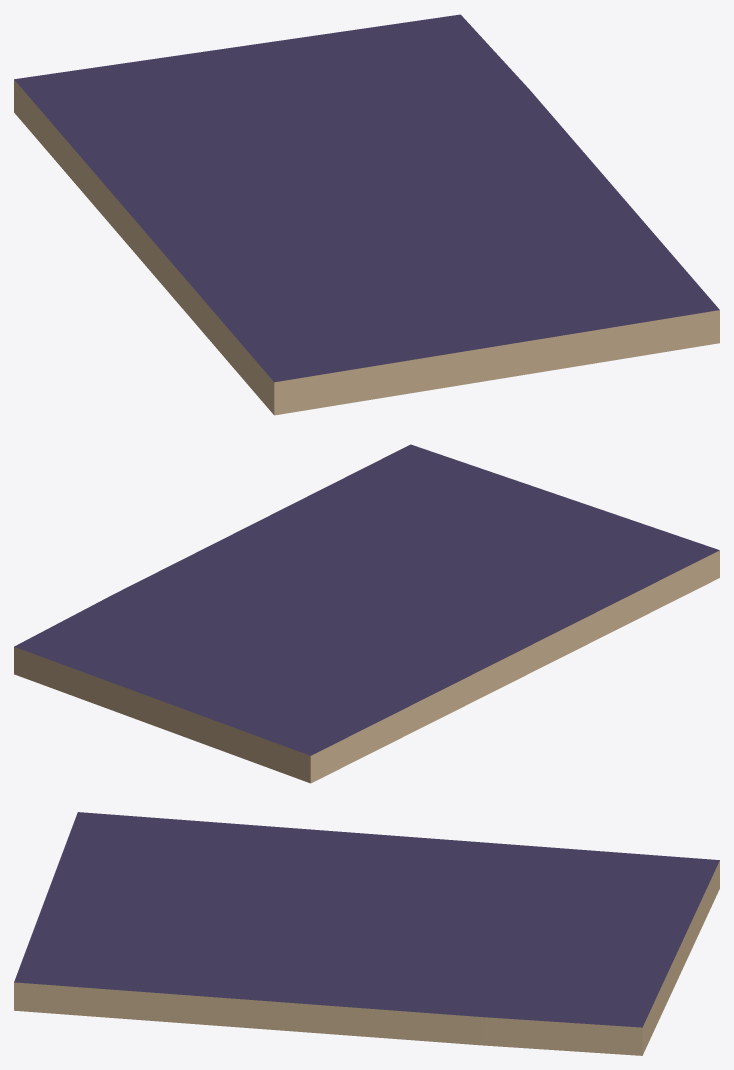
Rendered from b-071-music-building-day.glb.
The picture shows the model from 3 angles, top to bottom: view 1: azimuth 30°, elevation 25°; view 2: azimuth 150°, elevation 25°; view 3: azimuth 270°, elevation 25°; orthographic projection. The views are drawn at different scales.
Parts seen in each view (by area): view 1: campus/b-071-music-building-day-0; view 2: campus/b-071-music-building-day-0; view 3: campus/b-071-music-building-day-0.
Boxes of the visible parts, bbox=[...] form: campus/b-071-music-building-day-0: bbox=[14, 14, 719, 415]; campus/b-071-music-building-day-0: bbox=[14, 444, 719, 783]; campus/b-071-music-building-day-0: bbox=[14, 812, 719, 1055].
Bounding box in the file's own units: 48.91 × 3 × 67.69.
